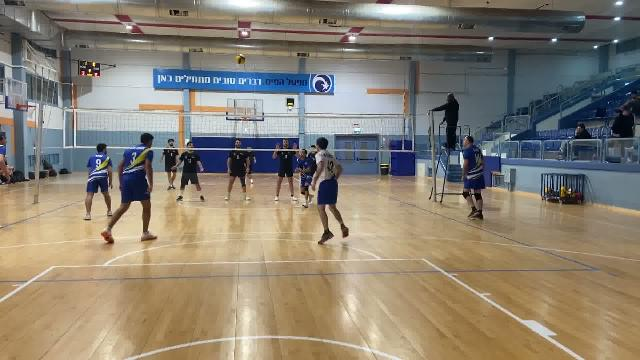ball: (233, 53, 247, 67)
